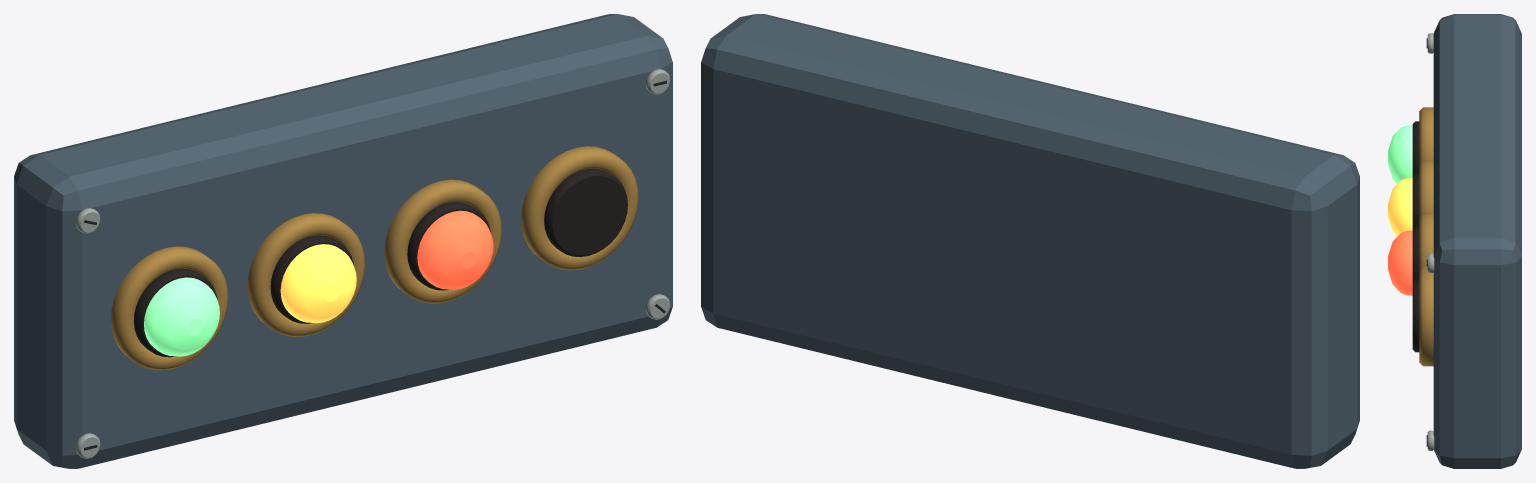
The model's file is SectorLampBank.fbx.
The picture shows the model from 3 angles, left to right: view 1: azimuth 30°, elevation 25°; view 2: azimuth 150°, elevation 25°; view 3: azimuth 270°, elevation 25°; orthographic projection. The views are drawn at different scales.
Parts seen in each view (by area): view 1: Panel, Socket well.009, Brass retaining ring.003, Brass retaining ring, Brass retaining ring.002, Brass retaining ring.001, Indicator 1, Indicator 2, Indicator 3, Socket well.007, Socket well.006, Socket well.008; view 2: Panel; view 3: Panel, Brass retaining ring.003, Indicator 3, Indicator 1, Indicator 2, Brass retaining ring.001, Brass retaining ring, Brass retaining ring.002, Socket well.009, Socket well.008, Socket well.006, Socket well.007.
Boxes of the visible parts, bbox=[...] form: Panel: bbox=[14, 14, 672, 468]; Socket well.009: bbox=[544, 168, 627, 257]; Brass retaining ring.003: bbox=[521, 146, 638, 270]; Brass retaining ring: bbox=[110, 246, 228, 370]; Brass retaining ring.002: bbox=[384, 179, 501, 303]; Brass retaining ring.001: bbox=[247, 213, 365, 336]; Indicator 1: bbox=[144, 277, 219, 356]; Indicator 2: bbox=[280, 244, 356, 323]; Indicator 3: bbox=[417, 210, 493, 289]; Socket well.007: bbox=[270, 235, 353, 323]; Socket well.006: bbox=[134, 268, 217, 357]; Socket well.008: bbox=[407, 202, 490, 290]; Panel: bbox=[701, 14, 1359, 468]; Panel: bbox=[1433, 14, 1521, 468]; Brass retaining ring.003: bbox=[1419, 265, 1433, 366]; Indicator 3: bbox=[1388, 230, 1412, 295]; Indicator 1: bbox=[1388, 125, 1412, 183]; Indicator 2: bbox=[1388, 178, 1412, 236]; Brass retaining ring.001: bbox=[1419, 160, 1433, 215]; Brass retaining ring: bbox=[1419, 107, 1433, 163]; Brass retaining ring.002: bbox=[1419, 212, 1433, 268]; Socket well.009: bbox=[1412, 279, 1419, 352]; Socket well.008: bbox=[1412, 226, 1419, 281]; Socket well.006: bbox=[1412, 121, 1419, 176]; Socket well.007: bbox=[1412, 174, 1419, 228].
Size of the model in its own units: 0.438 by 0.196 by 0.103.
